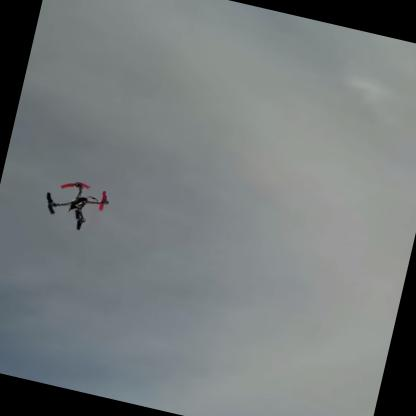drone: (31, 166, 127, 244)
